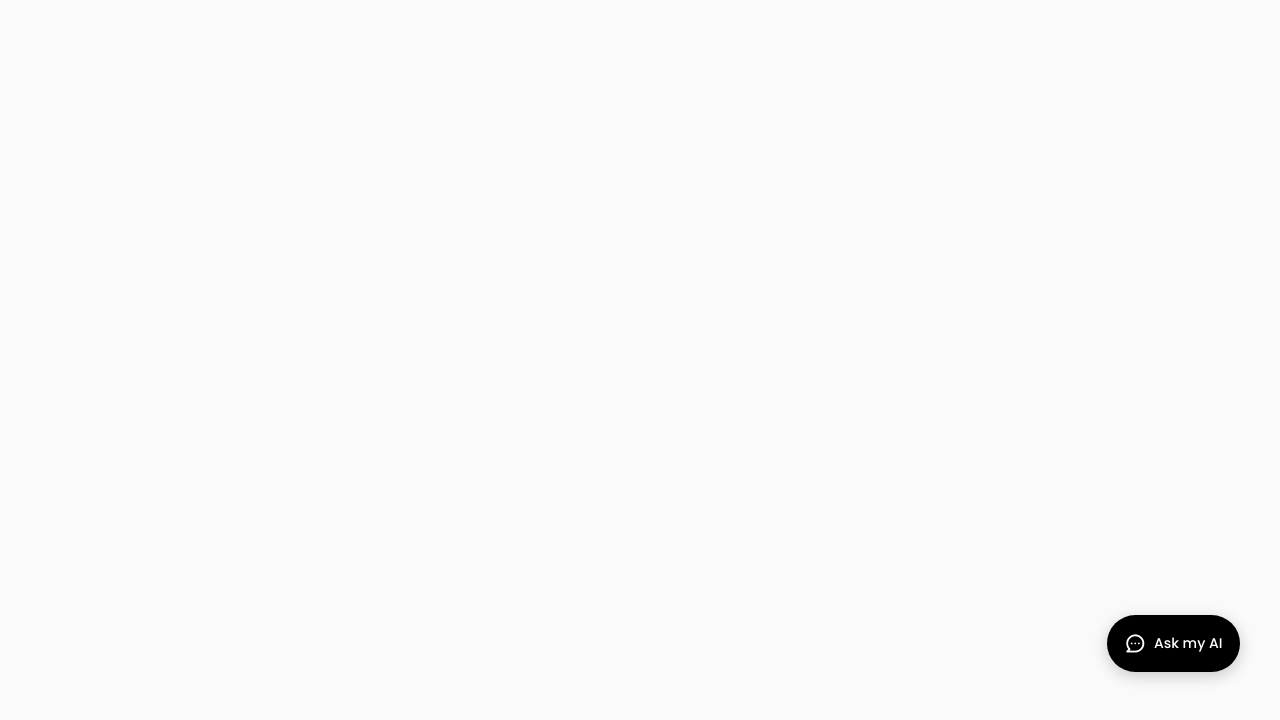
Scenario: ChatWidget › errors are shown but never sent back to the model
Step 1. Click the button with aria-label "open chat" → (1173, 644), box [1107,615,1240,672]
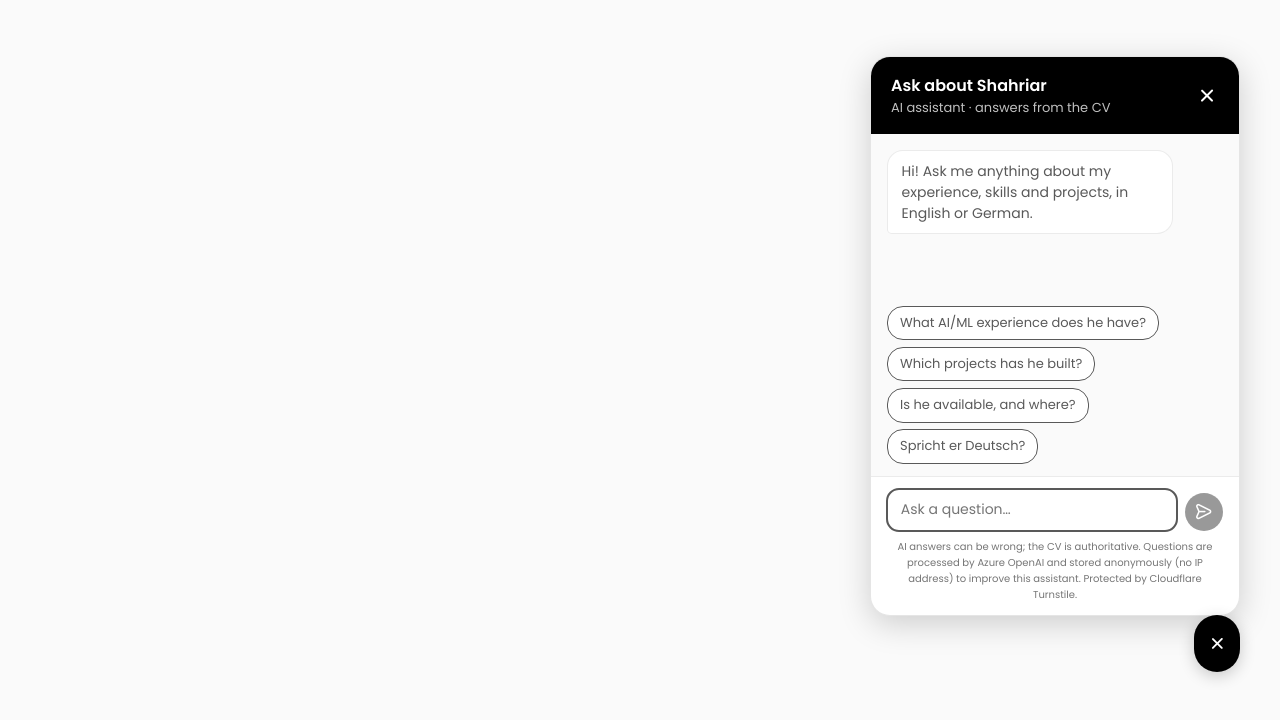
Step 2. Type "q1" into the text box named "Your question" → (1032, 510), box [887,489,1177,531]
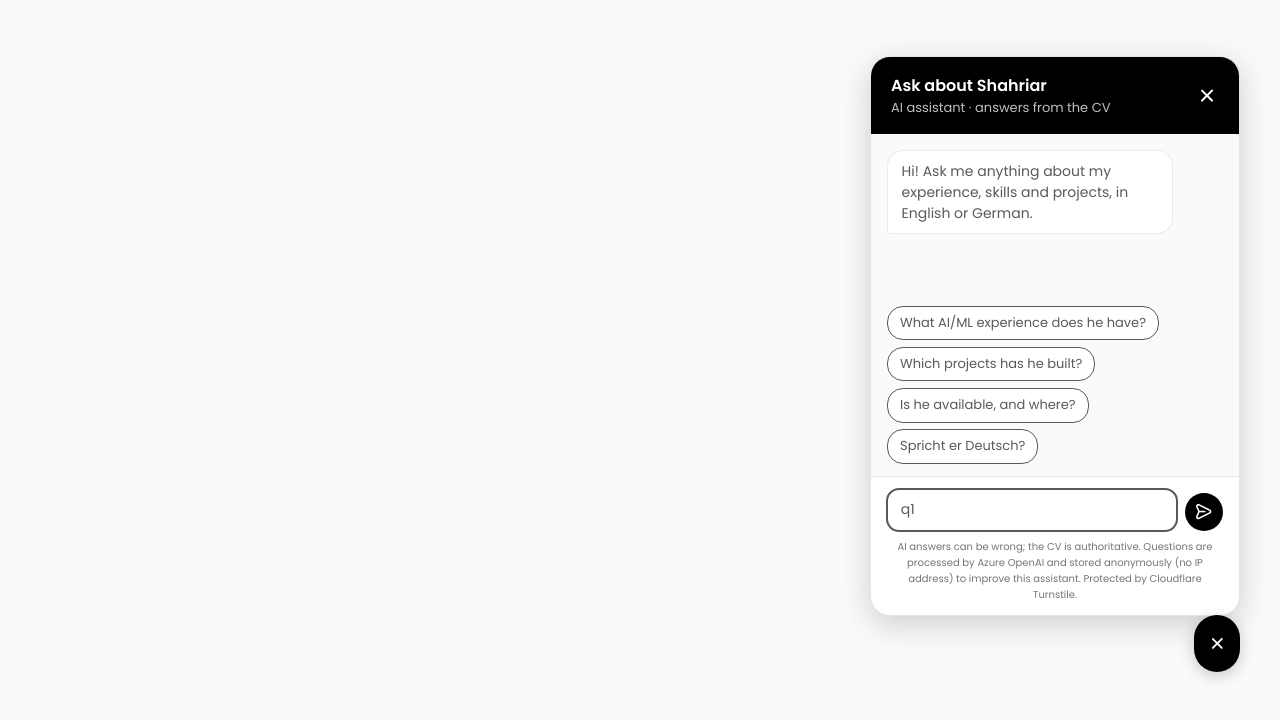
Step 3. Press Enter in the text box named "Your question", box [887,489,1177,531]
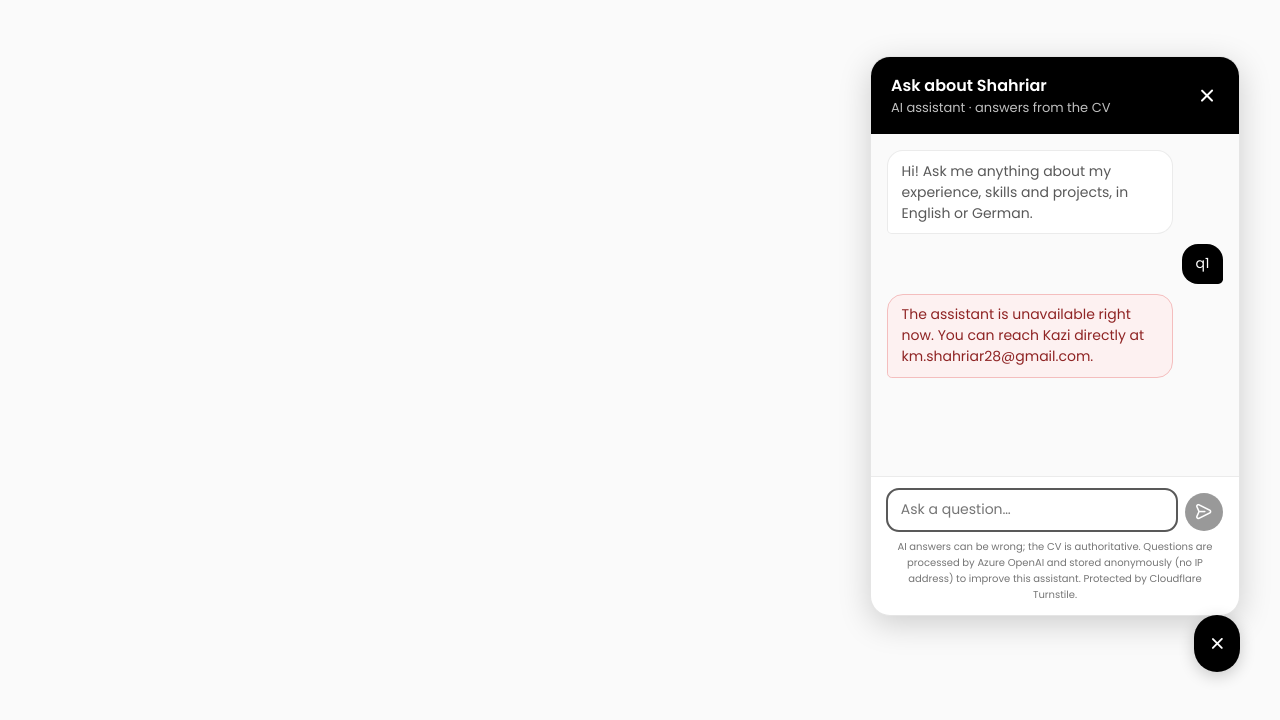
Step 4. Type "q2" into the text box named "Your question" → (1032, 510), box [887,489,1177,531]
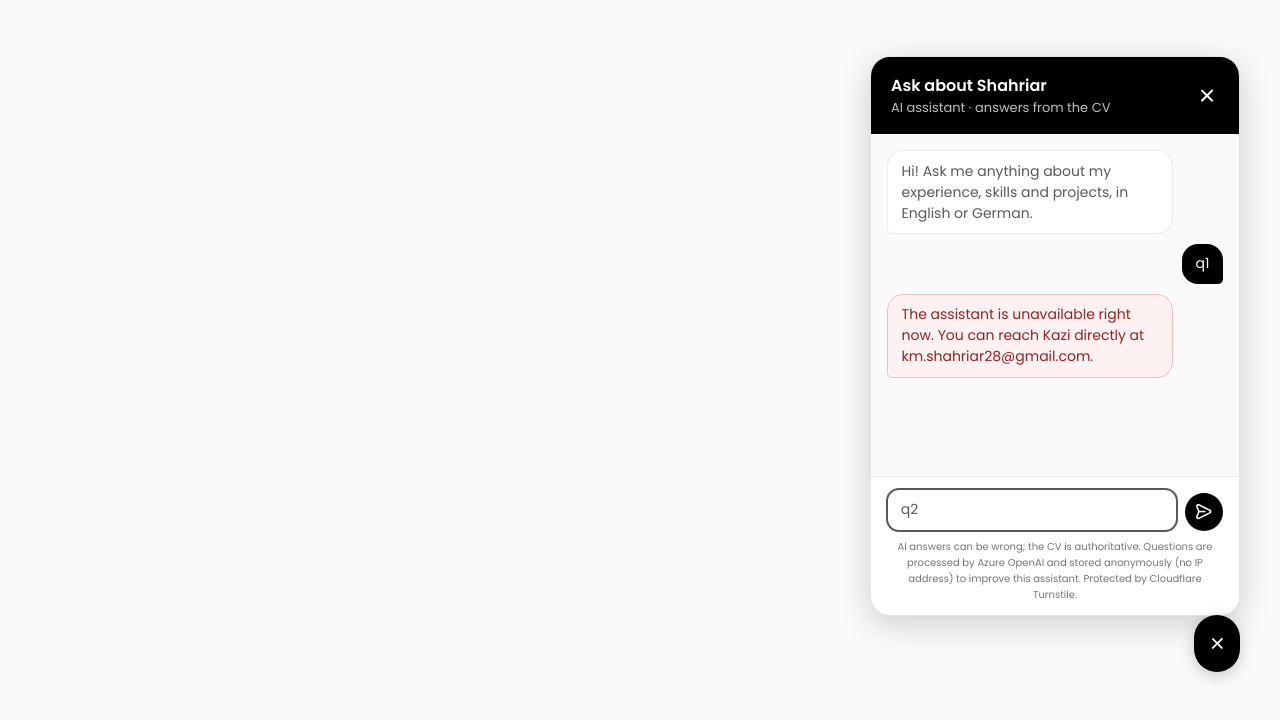
Step 5. Press Enter in the text box named "Your question", box [887,489,1177,531]
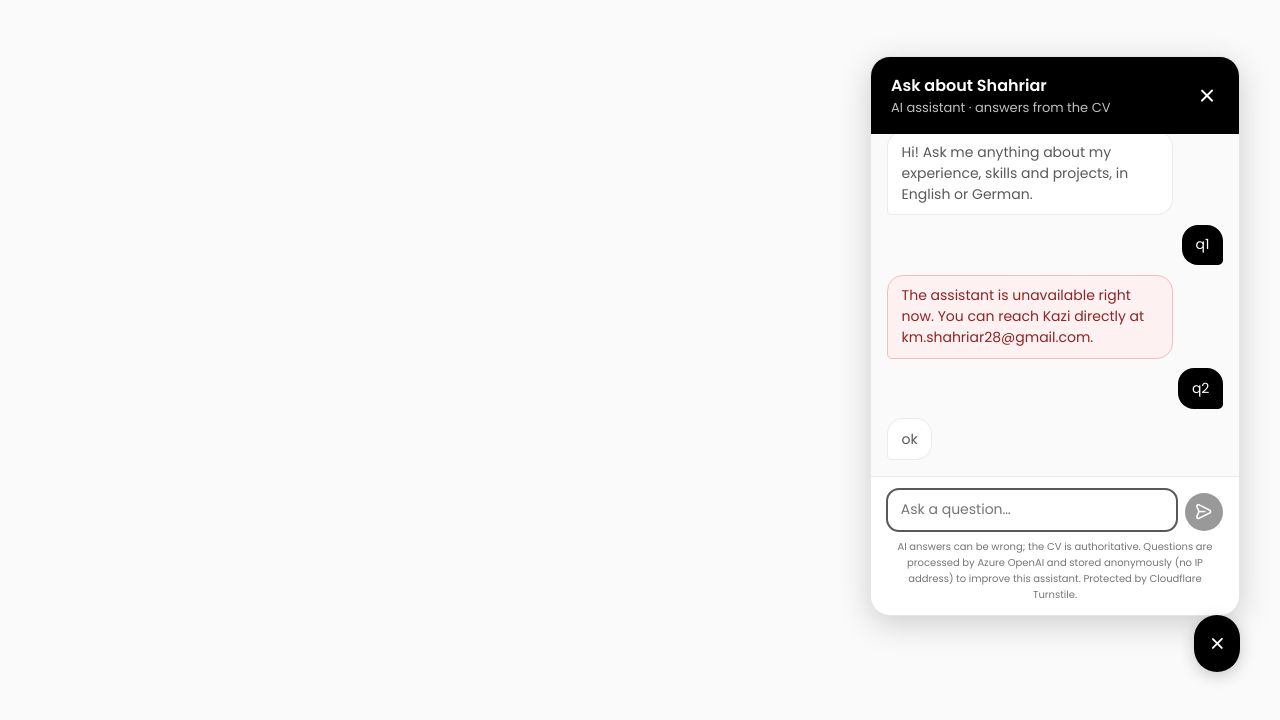
Expected: the text "ok" is shown, [887,418,932,460]
